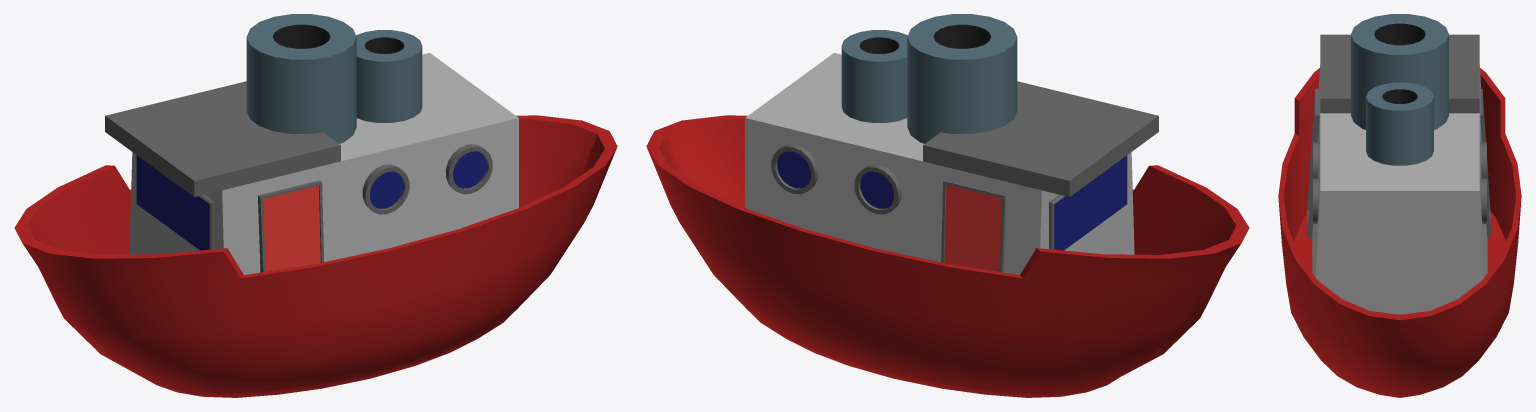
The model's file is Boat.fbx.
3 views of the same model, side by side, from view 1: azimuth 30°, elevation 25°; view 2: azimuth 150°, elevation 25°; view 3: azimuth 270°, elevation 25° (orthographic). The views are drawn at different scales.
Visible parts, largest first — view 1: Boat; view 2: Boat; view 3: Boat.
Boxes of the visible parts, bbox=[...] form: Boat: bbox=[14, 14, 617, 397]; Boat: bbox=[646, 14, 1249, 397]; Boat: bbox=[1278, 14, 1521, 397].
Size of the model in its own units: 26.88 by 14.09 by 10.79.
1 material, 1 textured.
